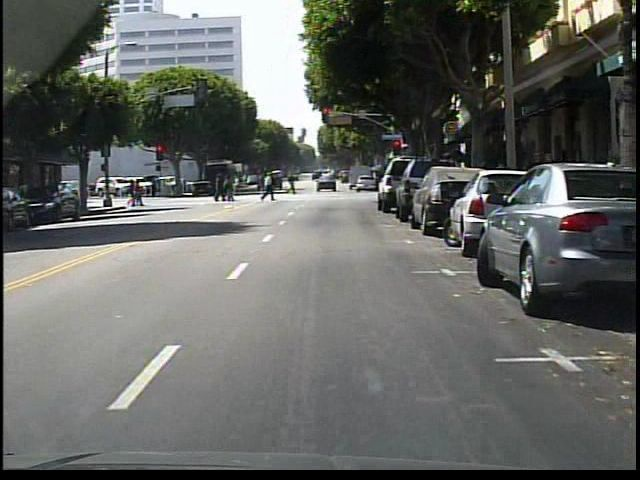person: (258, 168, 280, 203), (284, 169, 302, 198)
